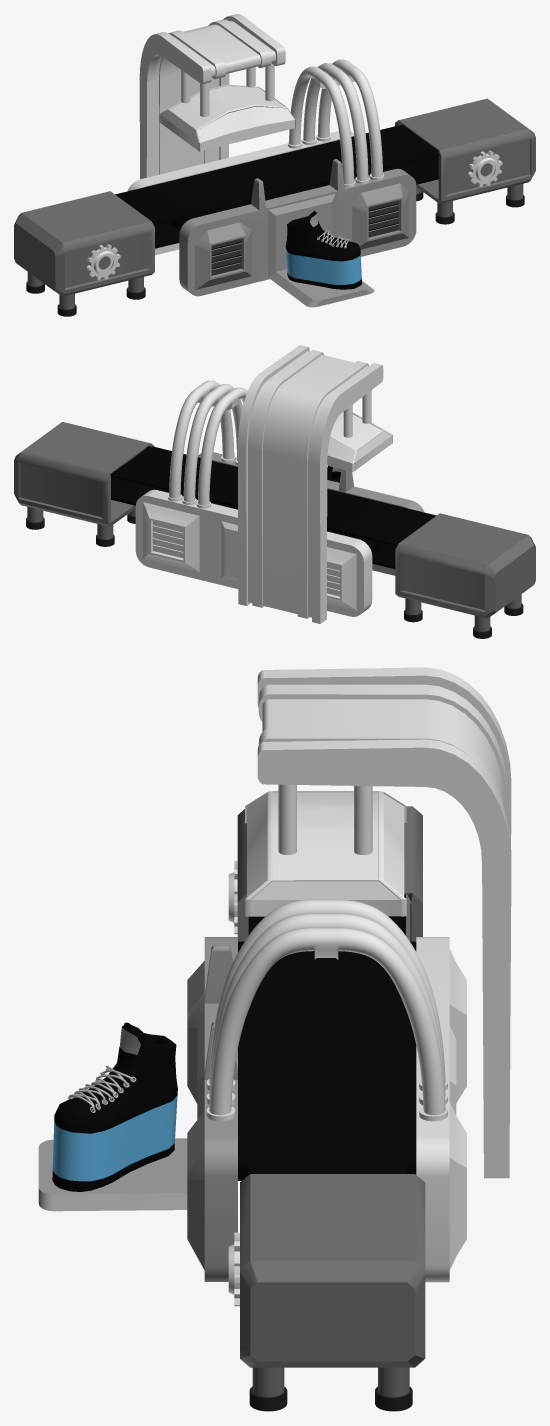
File: ayakkabmak2.fbx
3 views of the same model, one above another, from view 1: azimuth 30°, elevation 25°; view 2: azimuth 150°, elevation 25°; view 3: azimuth 270°, elevation 25° (orthographic). The views are drawn at different scales.
Visible parts, largest first — view 1: Cube.078, Circle.167, Plane.014, Circle.196, Circle.213, Cylinder.199, s4studio_mesh_1_geom.027, NurbsPath.004, NurbsPath.003, NurbsPath.005, Cube.080, Gear.070 (+6 smaller); view 2: Plane.014, Cube.080, Circle.196, Circle.213, Circle.167, Cylinder.199, NurbsPath.005, NurbsPath.003, NurbsPath.004, Cube.078, Cylinder.212, Cylinder.240 (+3 smaller); view 3: Plane.014, Circle.213, Circle.167, Cube.078, Cylinder.199, s4studio_mesh_1_geom.027, Cube.080, NurbsPath.005, NurbsPath.003, Circle.196, NurbsPath.004, Circle.168 (+5 smaller).
Boxes of the visible parts, bbox=[...] form: Cube.078: bbox=[179, 159, 416, 307]; Circle.167: bbox=[115, 124, 439, 248]; Plane.014: bbox=[139, 14, 285, 179]; Circle.196: bbox=[14, 191, 154, 296]; Circle.213: bbox=[395, 98, 535, 203]; Cylinder.199: bbox=[159, 84, 295, 151]; s4studio_mesh_1_geom.027: bbox=[285, 210, 361, 289]; NurbsPath.004: bbox=[289, 66, 354, 184]; NurbsPath.003: bbox=[303, 63, 368, 180]; NurbsPath.005: bbox=[317, 59, 382, 177]; Cube.080: bbox=[127, 131, 353, 255]; Gear.070: bbox=[468, 150, 502, 186]; Plane.014: bbox=[238, 345, 383, 623]; Cube.080: bbox=[135, 489, 372, 616]; Circle.196: bbox=[395, 513, 535, 618]; Circle.213: bbox=[14, 422, 154, 526]; Circle.167: bbox=[110, 446, 436, 568]; Cylinder.199: bbox=[327, 412, 392, 472]; NurbsPath.005: bbox=[169, 380, 234, 498]; NurbsPath.003: bbox=[183, 384, 242, 502]; NurbsPath.004: bbox=[198, 387, 247, 505]; Cube.078: bbox=[198, 452, 424, 575]; Cylinder.212: bbox=[404, 598, 422, 622]; Cylinder.240: bbox=[473, 615, 491, 638]; Plane.014: bbox=[257, 667, 511, 1178]; Circle.213: bbox=[240, 1174, 425, 1367]; Circle.167: bbox=[248, 895, 405, 1174]; Cube.078: bbox=[38, 937, 237, 1281]; Cylinder.199: bbox=[244, 791, 406, 916]; s4studio_mesh_1_geom.027: bbox=[52, 1022, 177, 1191]; Cube.080: bbox=[416, 937, 466, 1282]; NurbsPath.005: bbox=[209, 927, 445, 1115]; NurbsPath.003: bbox=[209, 913, 445, 1096]; Circle.196: bbox=[237, 806, 422, 941]; NurbsPath.004: bbox=[209, 899, 445, 1082]; Circle.168: bbox=[238, 941, 416, 1180].
Bounding box in the file's own units: 1410 × 604 × 601.
